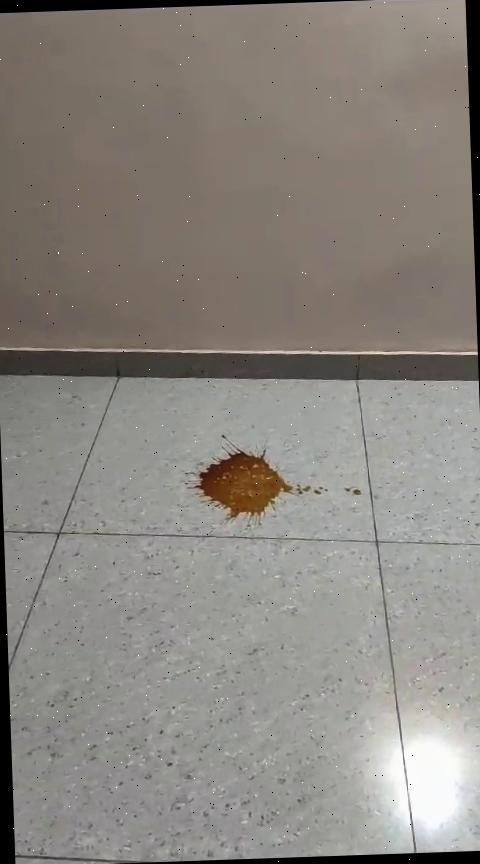dirty_floor: (178, 432, 329, 531)
